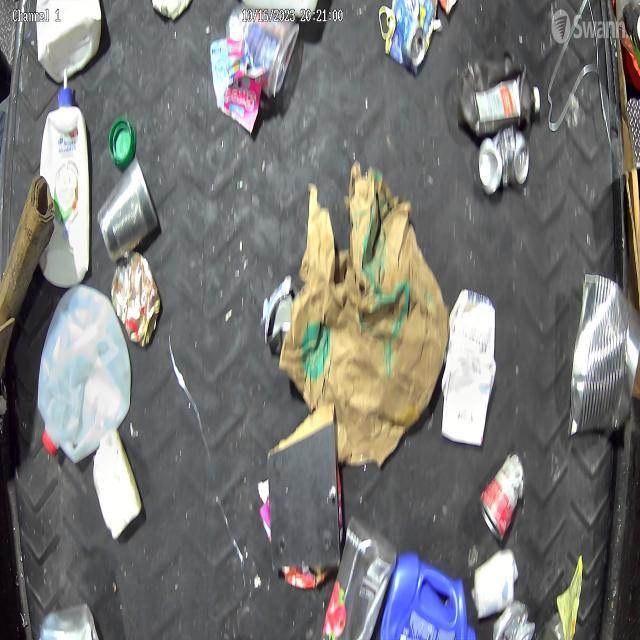can: (98, 158, 160, 262), (110, 252, 162, 350), (480, 451, 526, 543), (478, 124, 530, 196), (392, 0, 428, 73)
milk_jug: (36, 284, 133, 466)
non_white_jug: (321, 515, 398, 640), (380, 551, 476, 640), (460, 56, 540, 136)
